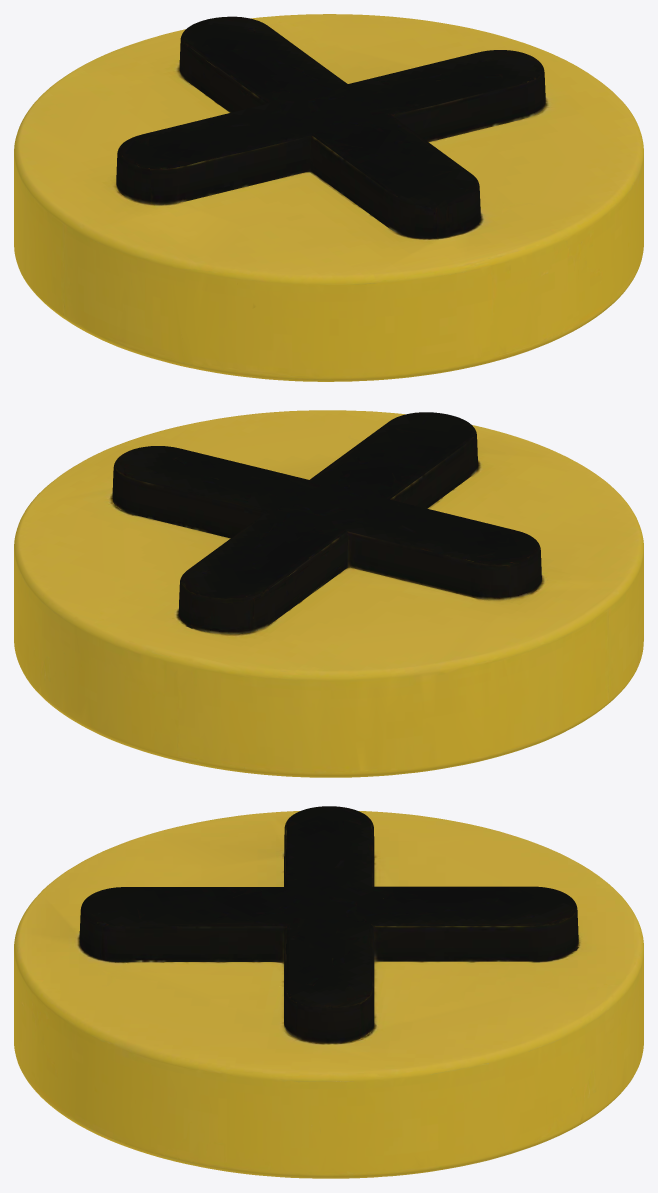
The picture shows the model from 3 angles, top to bottom: view 1: azimuth 30°, elevation 25°; view 2: azimuth 150°, elevation 25°; view 3: azimuth 270°, elevation 25°; orthographic projection.
Visible parts, largest first — view 1: material; view 2: material; view 3: material.
Part boxes in pixels (bbox=[...]): material: bbox=[14, 14, 643, 381]; material: bbox=[14, 410, 643, 777]; material: bbox=[14, 806, 643, 1178].
Size of the model in its own units: 1.17 by 0.2928 by 1.17.
Materials: 1 (1 with a texture image).
